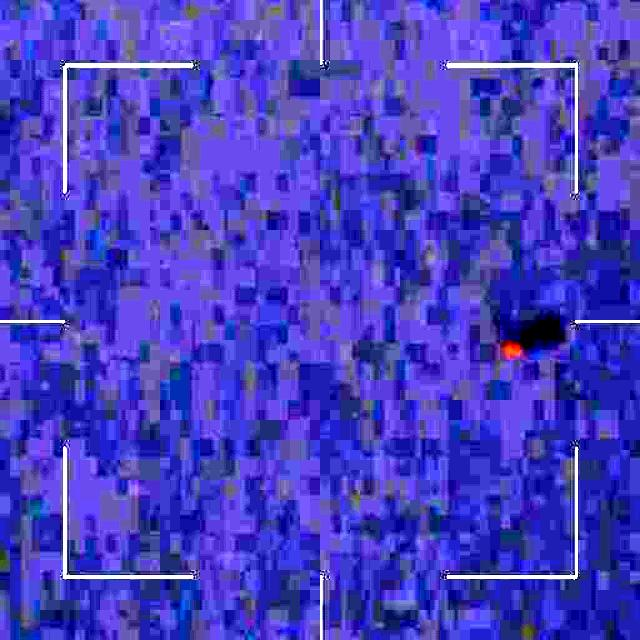bird: (498, 324, 528, 372)
